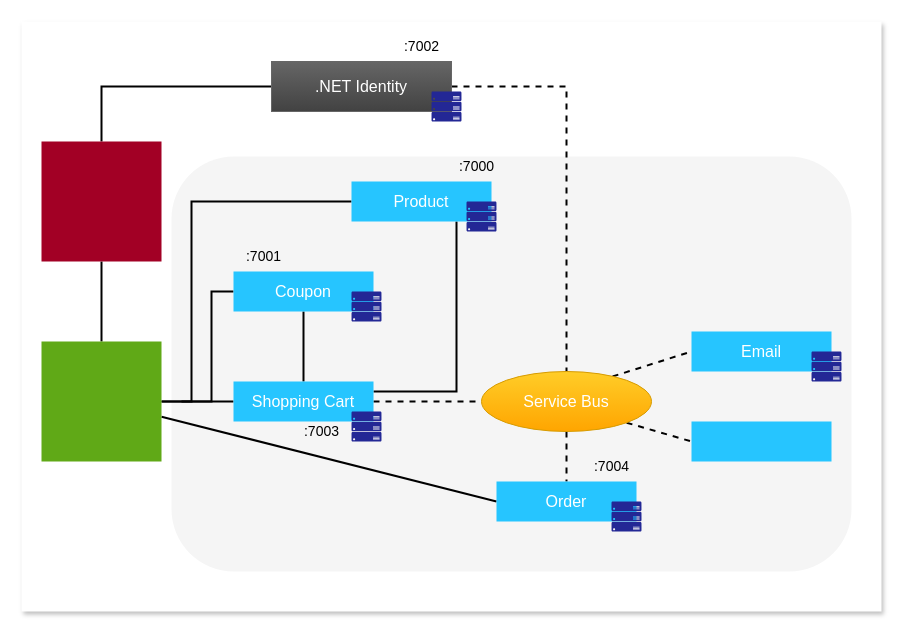
Some shapes in this 904 by 635 pixel diagram are drawn without their labels. Here are the shapes that lost their labels. From the top down, the centre of each, then its label:
the point at 101,201: MVC Application
the point at 101,401: Gateway
the point at 761,441: Rewards
